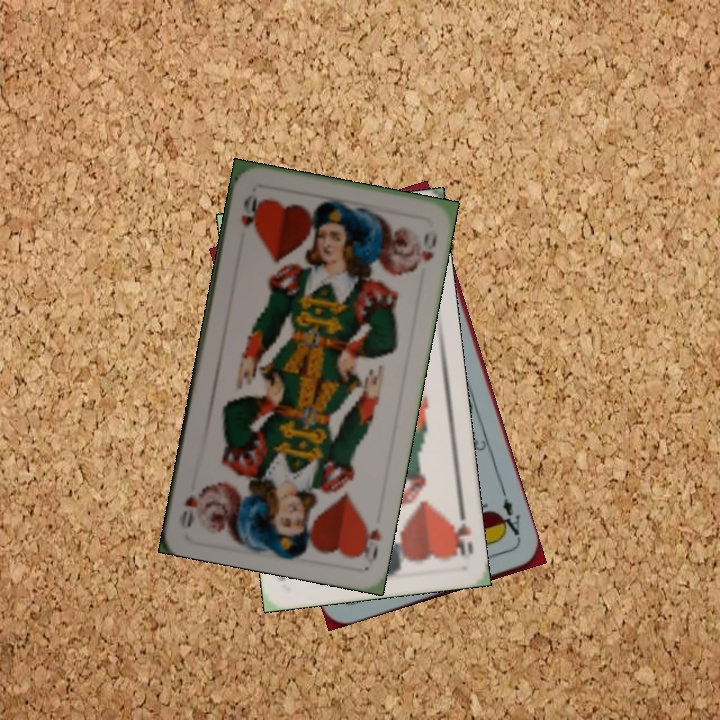EA: (493, 486, 523, 544)
HO: (448, 502, 476, 559), (354, 515, 384, 565), (236, 189, 261, 231)
